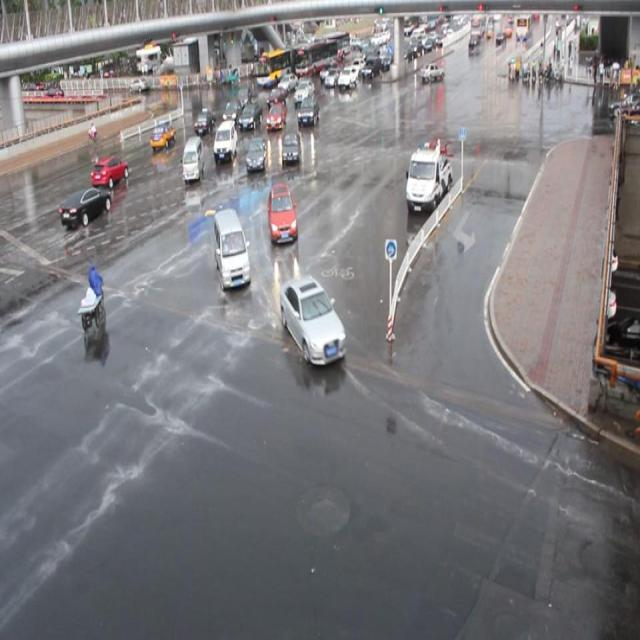bus: (404, 146, 452, 213)
car: (280, 276, 348, 364), (59, 186, 111, 228), (267, 183, 298, 244), (91, 155, 129, 189), (246, 136, 267, 171), (150, 121, 176, 148), (280, 130, 301, 163), (238, 103, 262, 130), (297, 97, 319, 125), (193, 108, 216, 134), (265, 103, 286, 129), (293, 80, 314, 104), (222, 100, 242, 123), (277, 74, 298, 94), (266, 87, 288, 106), (235, 87, 252, 110)
truck: (212, 208, 251, 289), (182, 136, 204, 182), (214, 120, 238, 162)
